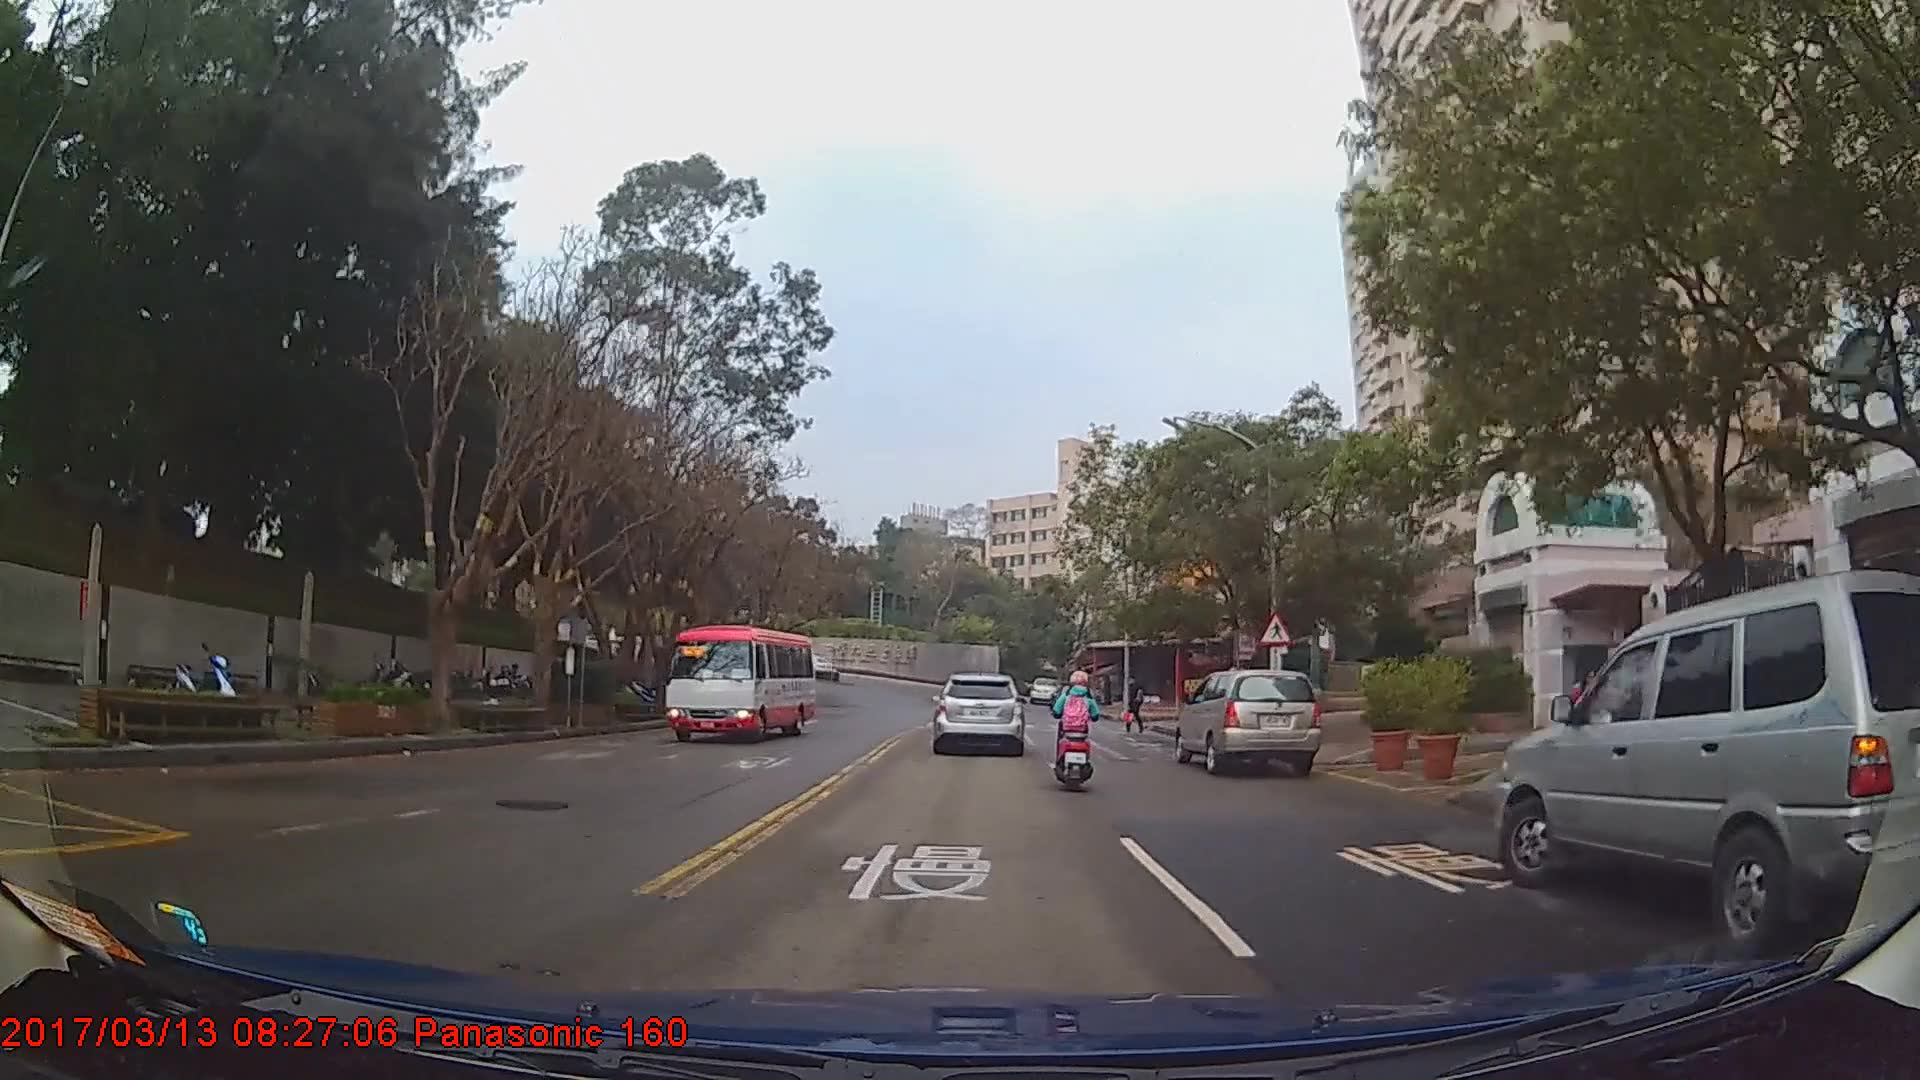pedestrian: (1122, 671, 1147, 737)
rider: (1050, 665, 1105, 794)
vehicle: (1498, 567, 1920, 942), (665, 624, 817, 743), (1172, 668, 1322, 776), (929, 674, 1025, 757), (1027, 676, 1059, 703)
